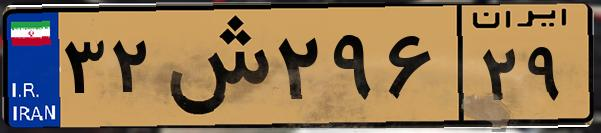2: (270, 28, 330, 110), (475, 38, 525, 113), (110, 28, 158, 98)
3: (57, 26, 110, 100)
6: (385, 28, 445, 110)
9: (330, 28, 385, 110), (525, 38, 570, 115)
ش: (158, 12, 270, 120)
